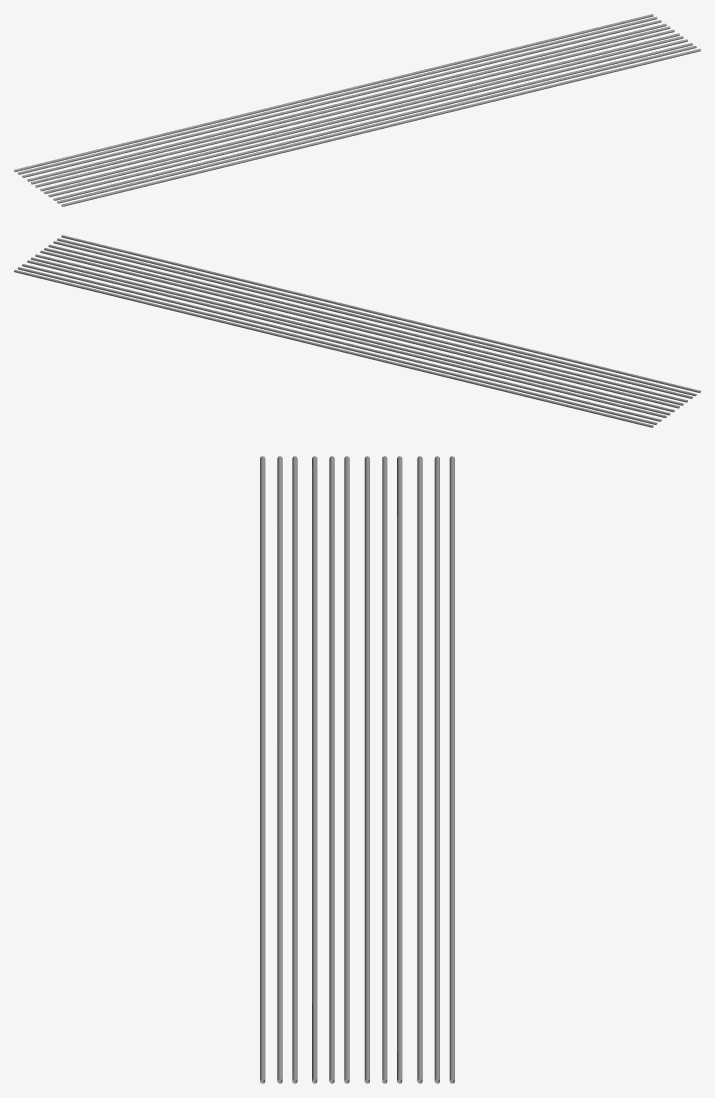
File: Trena_Pipes.fbx
3 views of the same model, one above another, from view 1: azimuth 30°, elevation 25°; view 2: azimuth 150°, elevation 25°; view 3: azimuth 270°, elevation 25° (orthographic). The views are drawn at different scales.
Parts seen in each view (by area): view 1: Trena_Pipes; view 2: Trena_Pipes; view 3: Trena_Pipes.
Boxes of the visible parts, <box> form: Trena_Pipes: <box>14,14,700,206</box>; Trena_Pipes: <box>14,235,700,427</box>; Trena_Pipes: <box>260,456,454,1083</box>.
Bounding box in the file's own units: 10610 × 38.12 × 1403.
